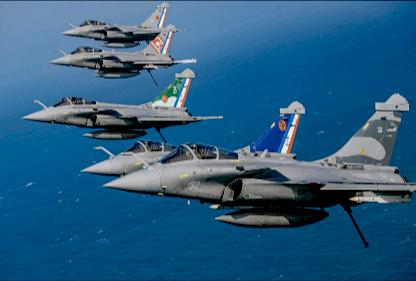RQ4: (101, 92, 415, 247), (80, 99, 304, 176), (20, 67, 226, 142), (47, 23, 197, 85), (60, 1, 188, 47)
